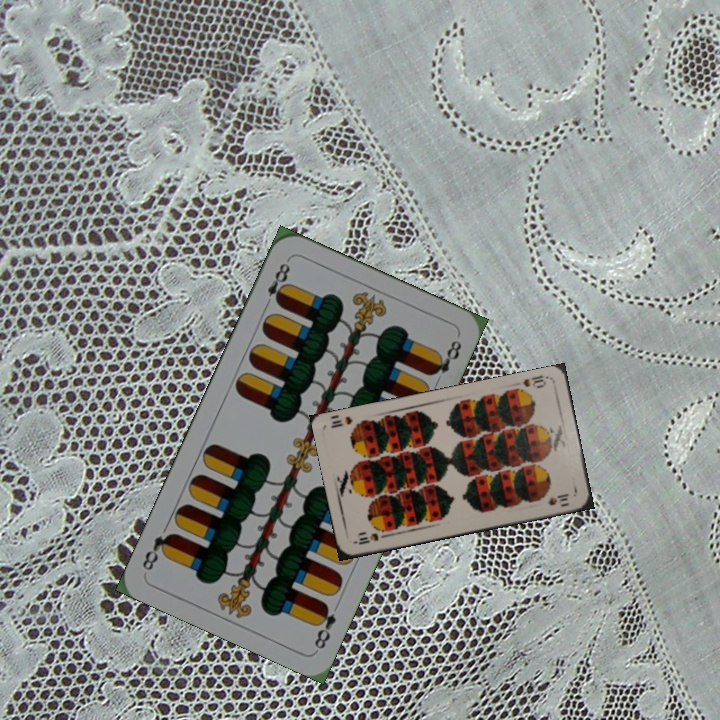E8: (260, 256, 293, 311), (310, 598, 339, 652)
S10: (350, 529, 391, 547), (519, 371, 549, 391)
